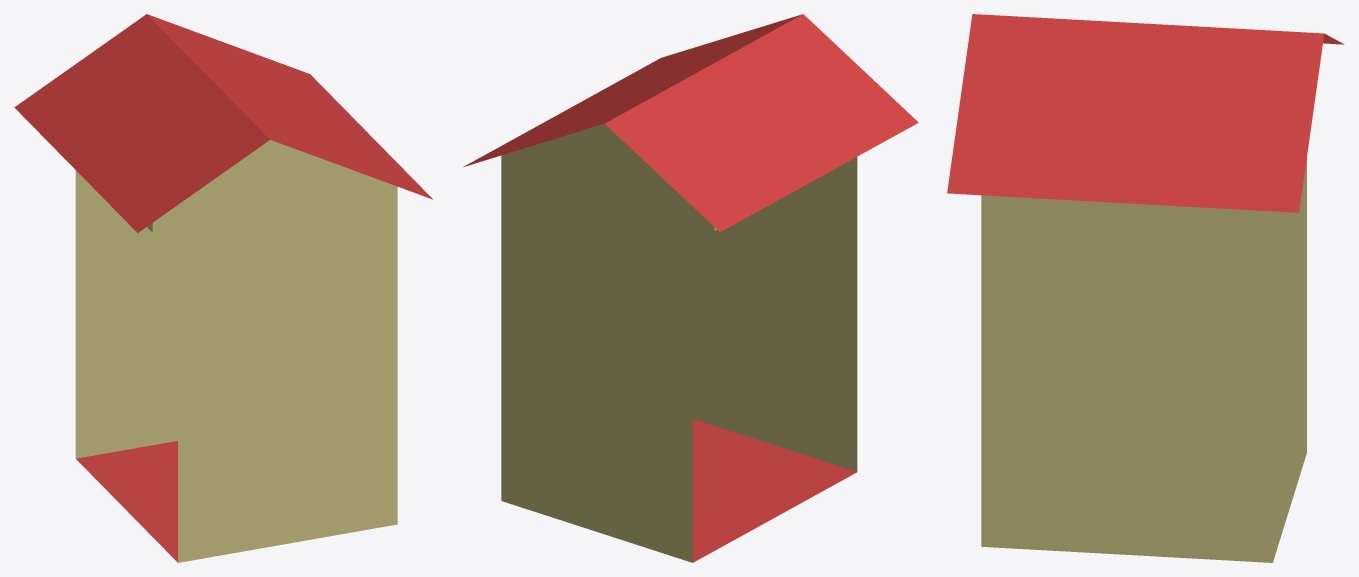
3 renders of one model, left to right at view 1: azimuth 30°, elevation 25°; view 2: azimuth 150°, elevation 25°; view 3: azimuth 270°, elevation 25°, orthographic. The views are drawn at different scales.
Bounding box in the file's own units: 9.75 × 9.79 × 12.55.
